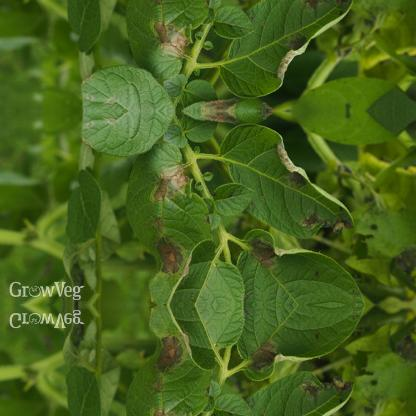Early-Blight: (142, 218, 192, 280), (142, 328, 192, 390), (150, 161, 214, 203), (150, 17, 214, 59), (266, 136, 314, 188), (289, 205, 367, 237), (266, 32, 314, 84), (289, 371, 367, 403), (232, 229, 286, 273), (232, 335, 286, 379), (180, 93, 284, 110), (180, 110, 284, 126), (289, 0, 367, 15), (149, 405, 214, 416)
